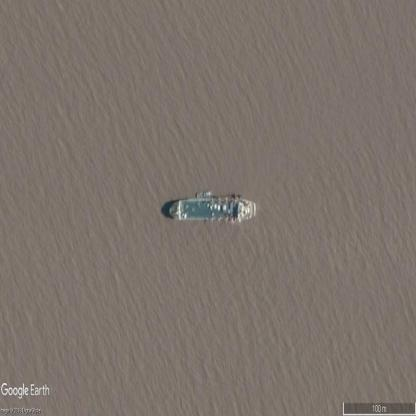ship: (169, 198, 256, 223), (195, 191, 203, 198), (204, 191, 212, 197)
